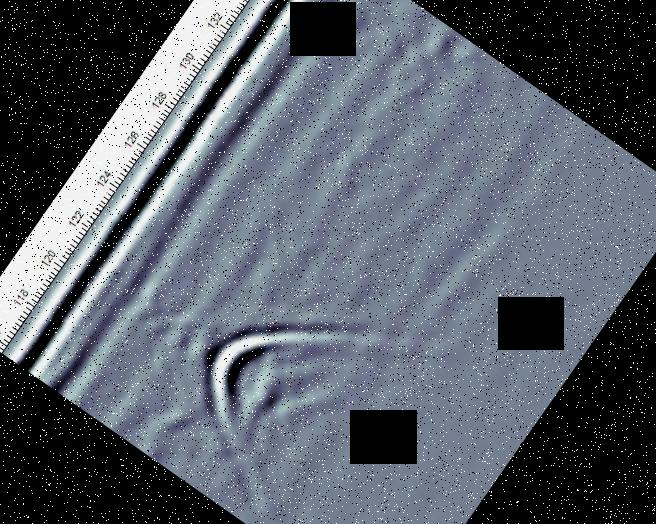Hyperbola: (104, 231, 396, 524)
